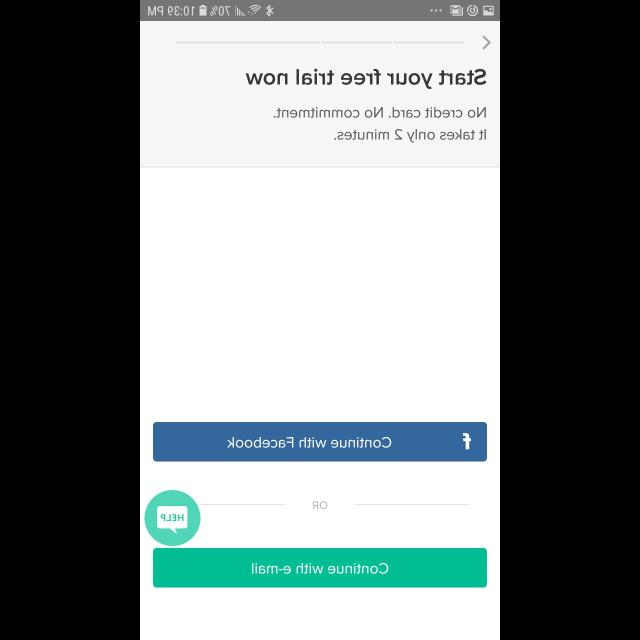icon: (144, 490, 200, 546), (482, 36, 491, 50)
text: (274, 107, 486, 143), (246, 68, 487, 90), (312, 500, 328, 510)
textbutton: (153, 548, 487, 588), (154, 422, 486, 462)
uppertaskbar: (140, 1, 500, 22)
